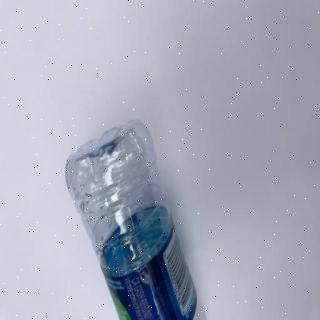Plastic-bottle: (65, 118, 213, 320)
